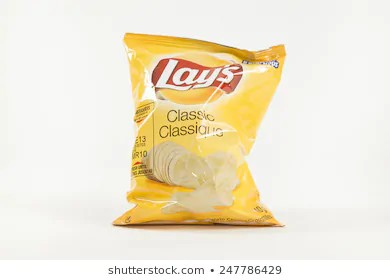lays-med: (110, 37, 290, 231)
